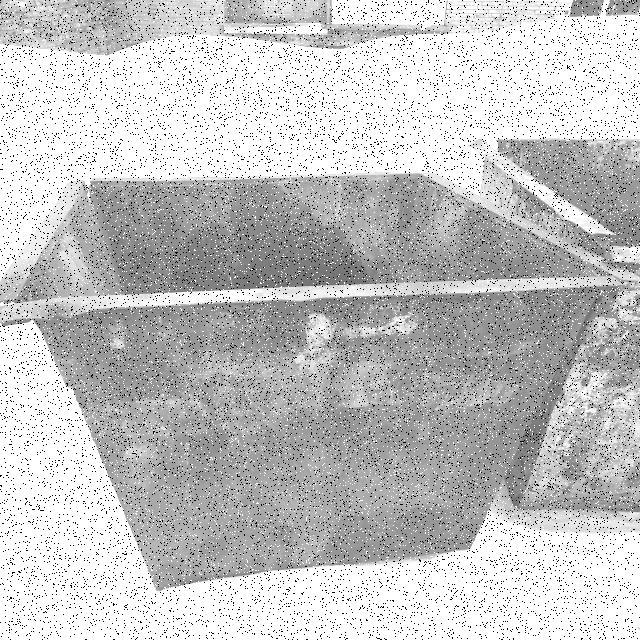Trashcan: (1, 130, 633, 606), (458, 111, 640, 550)
